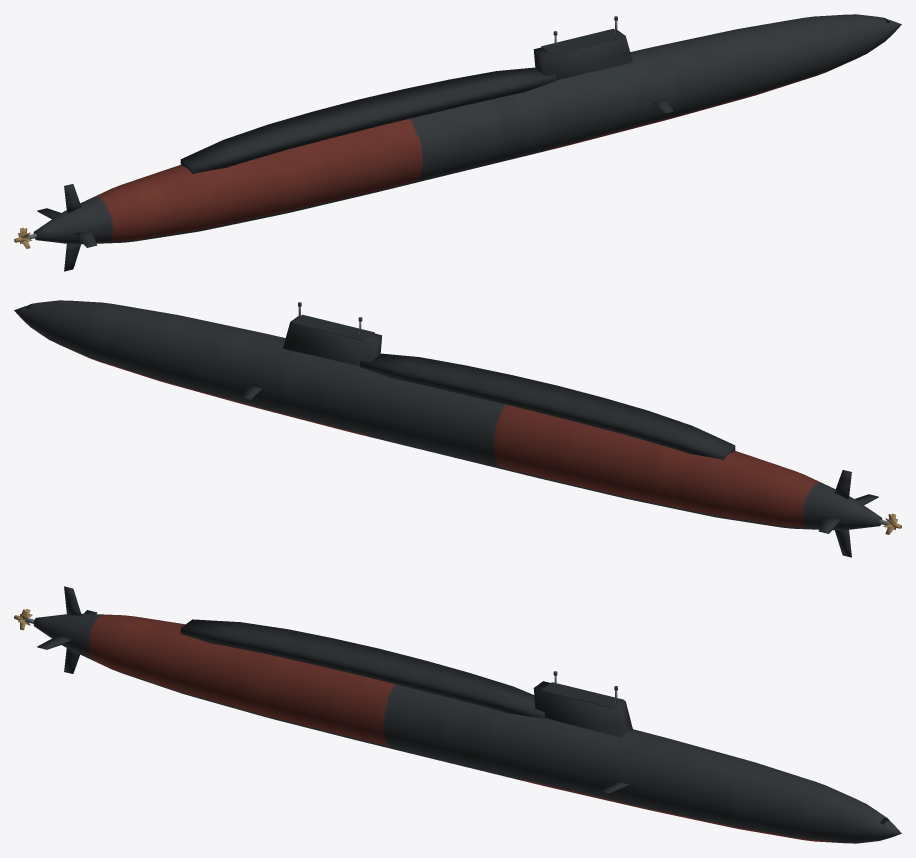
File: RU_SSBN_DeltaII_LOD1.fbx
The picture shows the model from 3 angles, top to bottom: view 1: azimuth 30°, elevation 25°; view 2: azimuth 150°, elevation 25°; view 3: azimuth 330°, elevation 25°; orthographic projection.
Parts seen in each view (by area): view 1: RU_SSBN_DeltaII_LOD1; view 2: RU_SSBN_DeltaII_LOD1; view 3: RU_SSBN_DeltaII_LOD1.
Part boxes in pixels (box(x1,y1,x2,y2)): RU_SSBN_DeltaII_LOD1: box(14, 14, 901, 271); RU_SSBN_DeltaII_LOD1: box(14, 300, 901, 557); RU_SSBN_DeltaII_LOD1: box(14, 586, 901, 843).
Size of the model in its own units: 159 by 20.06 by 20.46.
6 materials, 1 textured.
